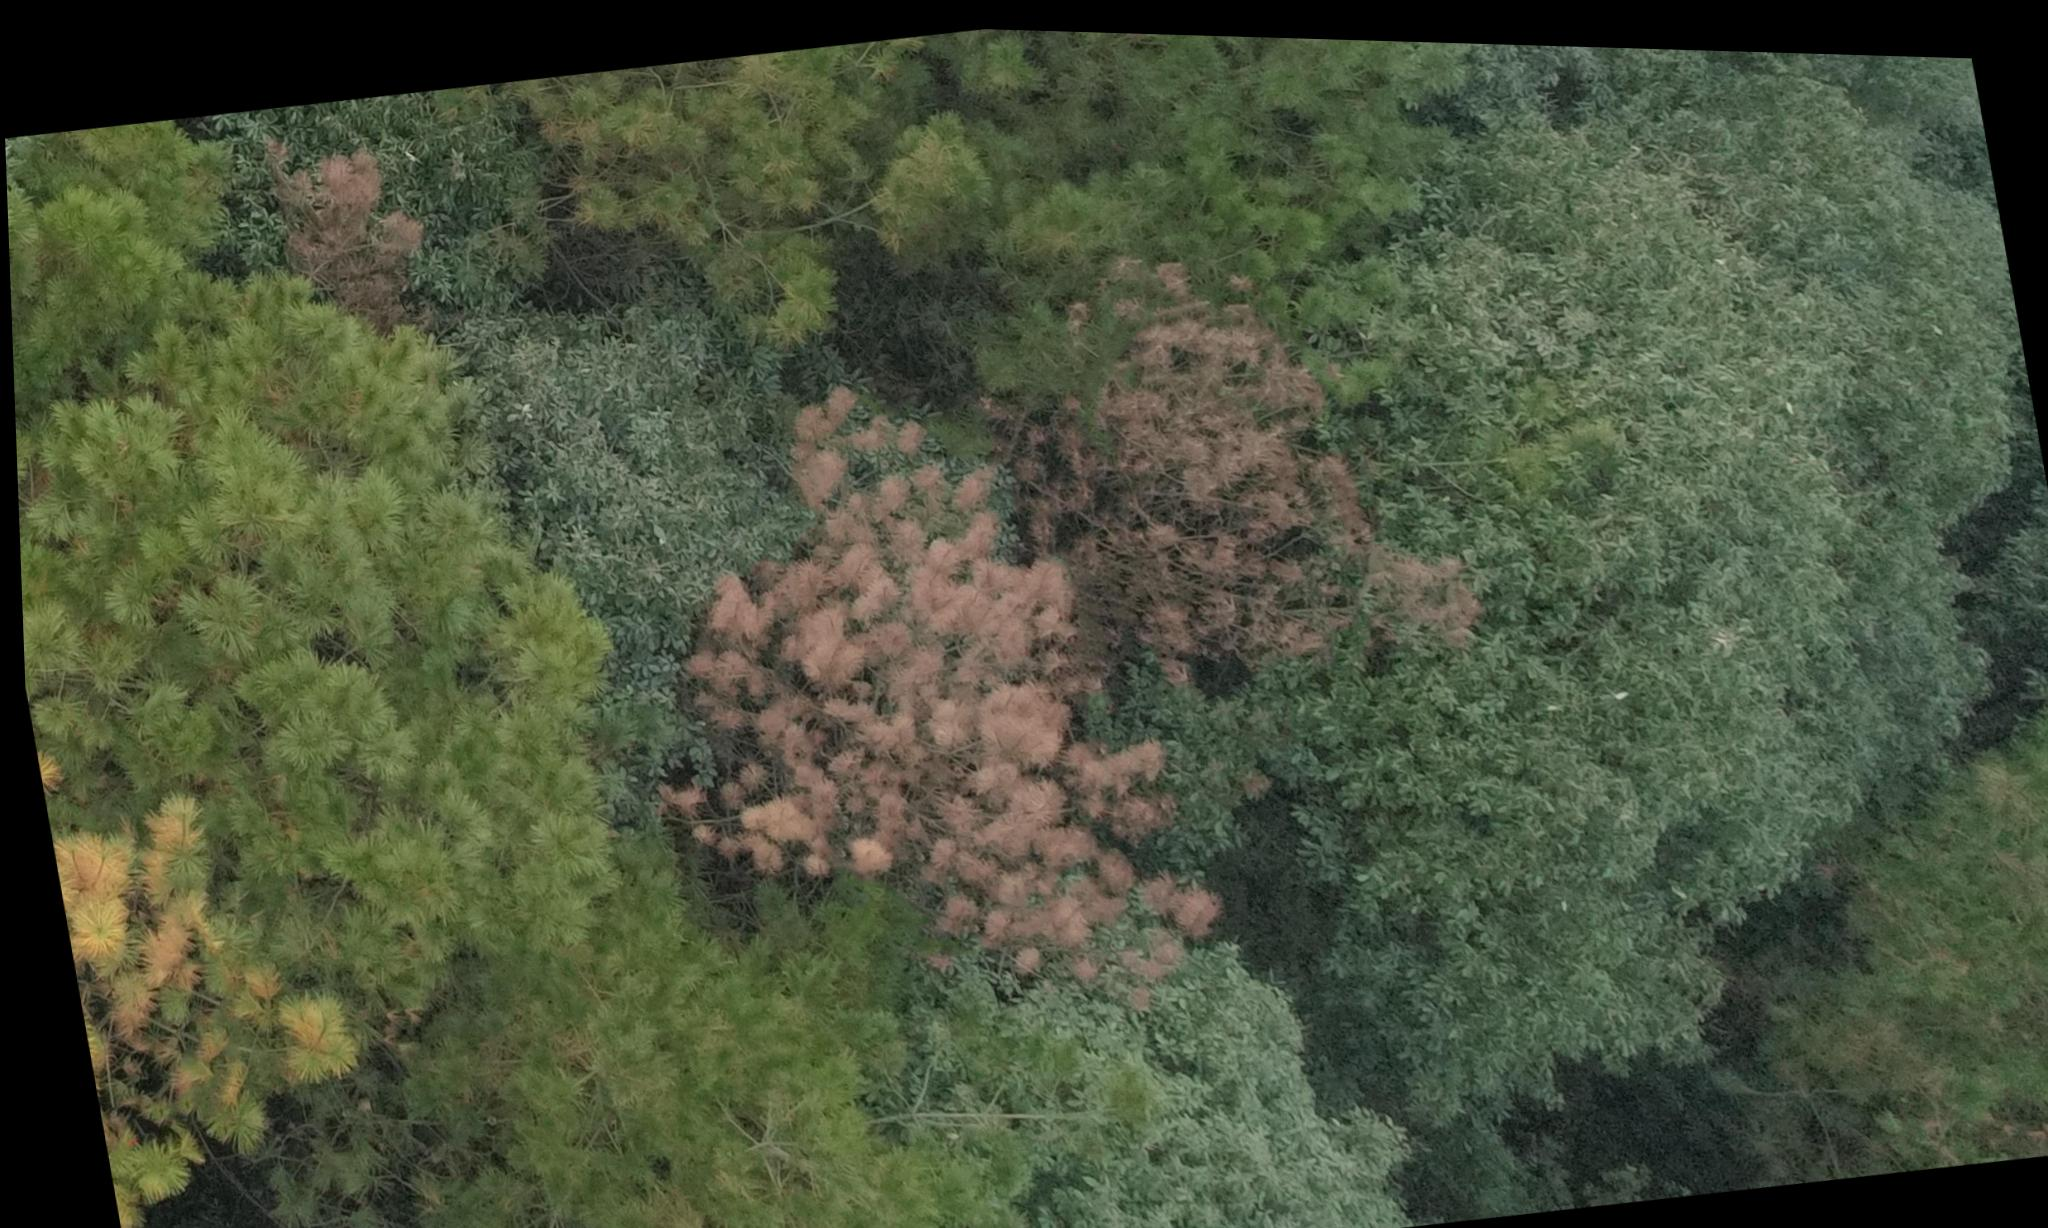heavy: (569, 345, 1129, 1041), (1042, 243, 1468, 694), (237, 110, 434, 326)
light: (32, 643, 389, 1228)
